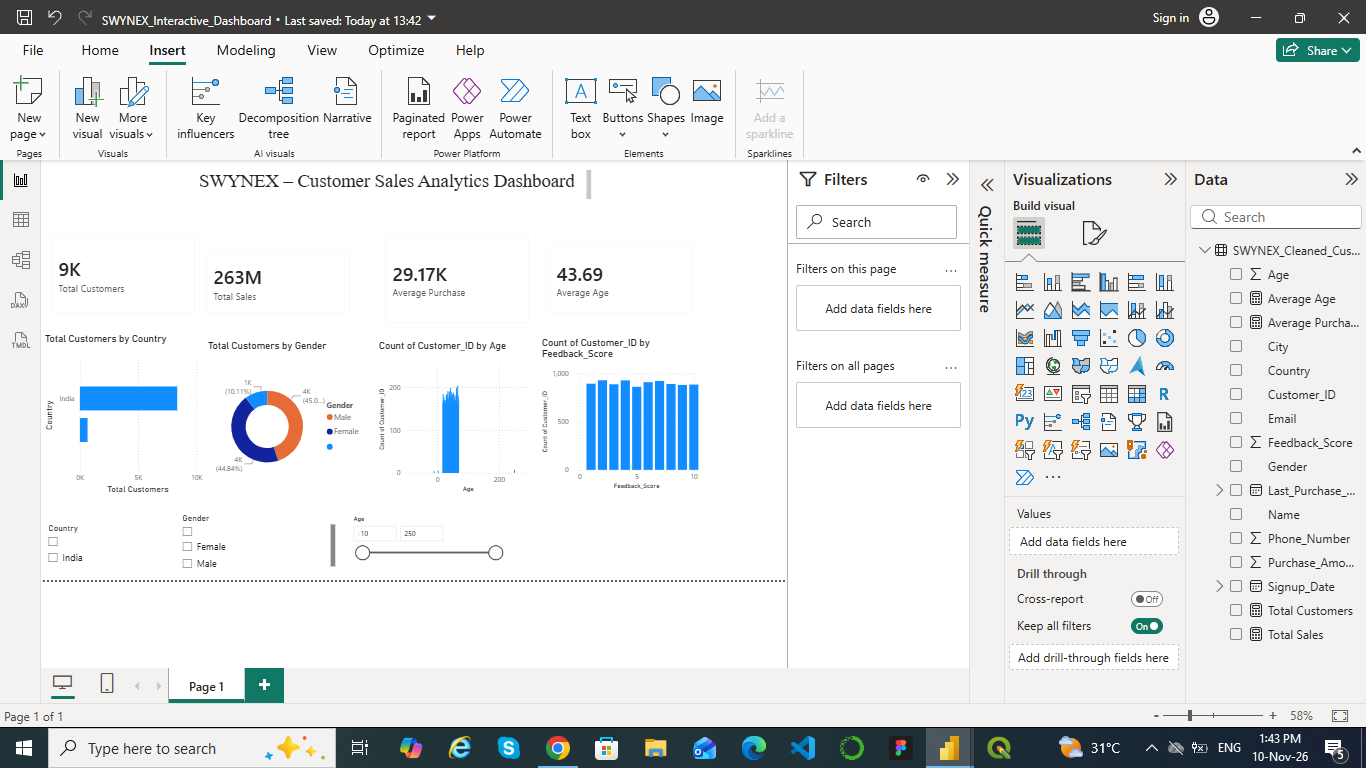

What the dashboard file says about the page in this screenshot:
{"tool":"powerbi","page":{"name":"Page 1","canvas":[1280,720],"ordinal":0},"visuals":[{"type":"cardVisual","fields":{"Data":["SWYNEX_Cleaned_Customer_Sales (1).Total Customers"]},"box":[0,109.8,281.4,171.6],"z":0},{"type":"cardVisual","fields":{"Data":["SWYNEX_Cleaned_Customer_Sales (1).Total Sales"]},"box":[266,139,281.4,142.4],"z":1000},{"type":"cardVisual","fields":{"Data":["SWYNEX_Cleaned_Customer_Sales (1).Average Purchase"]},"box":[854.5,127,281.4,154.4],"z":2000},{"type":"cardVisual","fields":{"Data":["SWYNEX_Cleaned_Customer_Sales (1).Average Purchase"]},"box":[573.1,109.8,281.4,187],"z":3000},{"type":"clusteredBarChart","fields":{"Category":["SWYNEX_Cleaned_Customer_Sales (1).Country"],"Y":["SWYNEX_Cleaned_Customer_Sales (1).Total Customers"]},"box":[1.7,296.8,280,280],"z":4000},{"type":"donutChart","fields":{"Category":["SWYNEX_Cleaned_Customer_Sales (1).Gender"],"Y":["SWYNEX_Cleaned_Customer_Sales (1).Total Customers"]},"box":[281.4,308.8,279.3,267],"z":5000},{"type":"clusteredColumnChart","fields":{"Category":["SWYNEX_Cleaned_Customer_Sales (1).Age"],"Y":["CountNonNull(SWYNEX_Cleaned_Customer_Sales (1).Customer_ID)"]},"box":[574.8,308.8,279.3,267],"z":6000},{"type":"clusteredColumnChart","fields":{"Category":["SWYNEX_Cleaned_Customer_Sales (1).Feedback_Score"],"Y":["CountNonNull(SWYNEX_Cleaned_Customer_Sales (1).Customer_ID)"]},"box":[854.5,303.7,279.3,267],"z":7000},{"type":"slicer","fields":{"Values":["SWYNEX_Cleaned_Customer_Sales (1).Country"]},"box":[0,619.4,229.9,94.4],"z":8000},{"type":"slicer","fields":{"Values":["SWYNEX_Cleaned_Customer_Sales (1).Gender"]},"box":[229.9,602.3,279.7,111.5],"z":9000},{"type":"slicer","fields":{"Values":["SWYNEX_Cleaned_Customer_Sales (1).Age"]},"box":[523.3,604,278,109.8],"z":10000},{"type":"textbox","box":[266,12,682.9,61.8],"z":10001}]}

Visuals, with their boxes on the page's 1280x720 design canvas (x1, y1, x2, y2). These are canvas units, not pixel positions in the 1366x768 screenshot, which may show the page scaled, cropped or inside an application window:
cardVisual - SWYNEX_Cleaned_Customer_Sales (1).Total Customers: (0, 110, 281, 281)
cardVisual - SWYNEX_Cleaned_Customer_Sales (1).Total Sales: (266, 139, 547, 281)
cardVisual - SWYNEX_Cleaned_Customer_Sales (1).Average Purchase: (854, 127, 1136, 281)
cardVisual - SWYNEX_Cleaned_Customer_Sales (1).Average Purchase: (573, 110, 854, 297)
clusteredBarChart - SWYNEX_Cleaned_Customer_Sales (1).Country x SWYNEX_Cleaned_Customer_Sales (1).Total Customers: (2, 297, 282, 577)
donutChart - SWYNEX_Cleaned_Customer_Sales (1).Gender x SWYNEX_Cleaned_Customer_Sales (1).Total Customers: (281, 309, 561, 576)
clusteredColumnChart - SWYNEX_Cleaned_Customer_Sales (1).Age x CountNonNull(SWYNEX_Cleaned_Customer_Sales (1).Customer_ID): (575, 309, 854, 576)
clusteredColumnChart - SWYNEX_Cleaned_Customer_Sales (1).Feedback_Score x CountNonNull(SWYNEX_Cleaned_Customer_Sales (1).Customer_ID): (854, 304, 1134, 571)
slicer - SWYNEX_Cleaned_Customer_Sales (1).Country: (0, 619, 230, 714)
slicer - SWYNEX_Cleaned_Customer_Sales (1).Gender: (230, 602, 510, 714)
slicer - SWYNEX_Cleaned_Customer_Sales (1).Age: (523, 604, 801, 714)
textbox: (266, 12, 949, 74)
